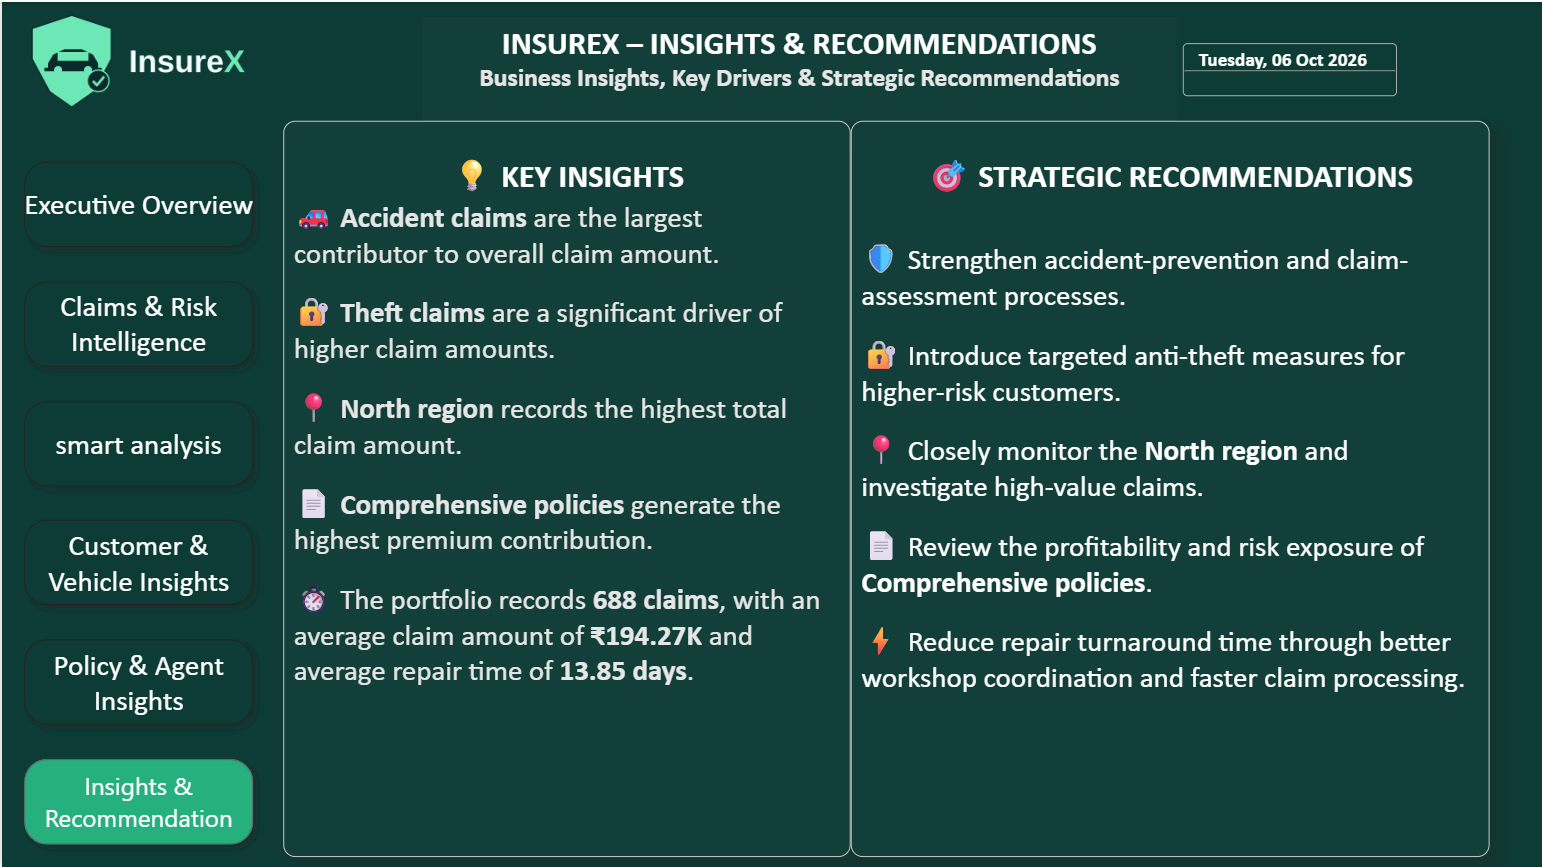

The page's visual inventory and layout, read from the dashboard file:
{"tool":"powerbi","page":{"name":"Insights & Recommendation","canvas":[1280,720],"ordinal":5},"visuals":[{"type":"textbox","box":[348.5,12.3,625.7,86.4],"z":0},{"type":"image","box":[0,0,348.5,94.7],"z":1000},{"type":"pageNavigator","box":[9.6,123.5,208.6,587.3],"z":2000},{"type":"cardVisual","fields":{"Rows":["Agents.Today's Date"]},"box":[974.3,9.6,188,94.7],"z":3000},{"type":"textbox","box":[233.3,98.8,470.7,610.6],"z":4000},{"type":"textbox","box":[703.9,98.8,529.7,610.6],"z":5000}]}

Visuals, with their boxes in screenshot pixels (x1, y1, x2, y2), scaled from the page's 1280x720 canvas onto the 1542x867 screenshot:
textbox: x1=420, y1=15, x2=1174, y2=119
image: x1=0, y1=0, x2=420, y2=114
pageNavigator: x1=12, y1=149, x2=263, y2=856
cardVisual - Agents.Today's Date: x1=1174, y1=12, x2=1400, y2=126
textbox: x1=281, y1=119, x2=848, y2=854
textbox: x1=848, y1=119, x2=1486, y2=854
